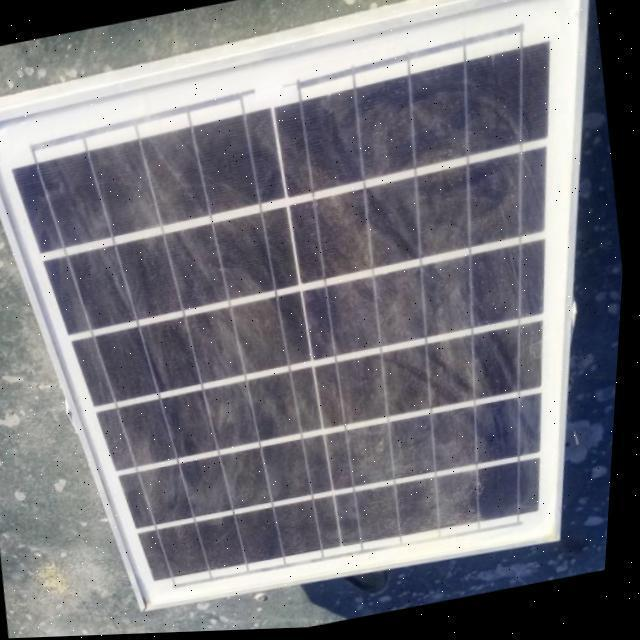Anomaly Solar Panel: (0, 28, 566, 597)
Surface Contaminant: (27, 58, 579, 598)
